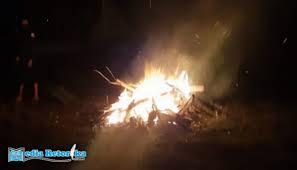Fire: (104, 72, 200, 124)
